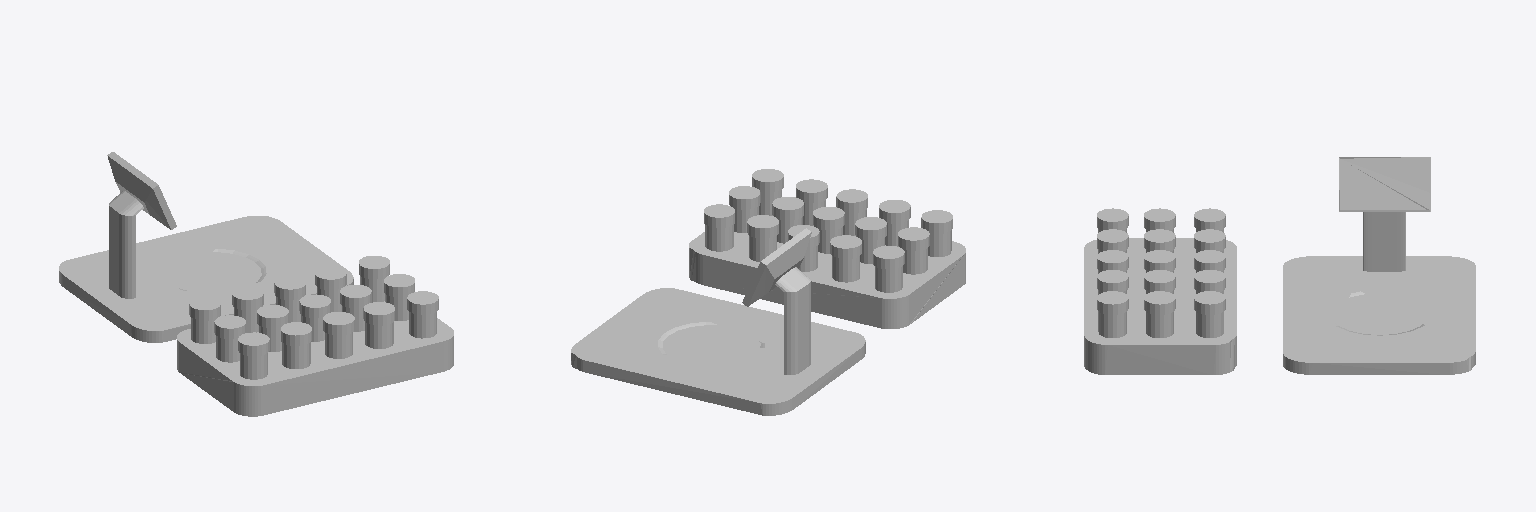
File: converted.obj
3 renders of one model, left to right at view 1: azimuth 30°, elevation 25°; view 2: azimuth 150°, elevation 25°; view 3: azimuth 270°, elevation 25°, orthographic.
Visible parts, largest first — view 1: pCylinder27, pCylinder1, pCylinder22, pCylinder15, pCylinder21, pCylinder20, pCylinder19, pCylinder14, pCube5; view 2: pCylinder27, pCylinder1, pCylinder22, pCylinder15, pCylinder21, pCylinder19, pCylinder14, pCylinder20, pCube5; view 3: pCylinder27, pCylinder1, pCylinder15, pCube5, pCylinder14, pCube4, pCylinder19, pCylinder21, pCylinder22, pCylinder20.
Part boxes in pixels (x1,y1,x2,y2): pCylinder27: (59,216,353,342); pCylinder1: (177,301,453,416); pCylinder22: (189,297,269,379); pCylinder15: (359,256,438,338); pCylinder21: (232,286,311,368); pCylinder20: (274,276,354,358); pCylinder19: (315,266,394,348); pCylinder14: (109,191,143,298); pCube5: (107,152,176,229); pCylinder27: (571,288,865,415); pCylinder1: (689,216,965,328); pCylinder22: (873,210,952,292); pCylinder15: (704,169,783,251); pCylinder21: (830,200,910,282); pCylinder19: (747,179,827,261); pCylinder14: (775,267,810,374); pCylinder20: (788,189,867,271); pCube5: (742,228,811,306); pCylinder27: (1283,256,1475,374); pCylinder1: (1084,238,1236,374); pCylinder15: (1097,291,1225,337); pCube5: (1339,157,1430,211); pCylinder14: (1363,212,1405,271); pCube4: (1340,159,1425,209); pCylinder19: (1097,270,1225,294); pCylinder21: (1097,229,1225,253); pCylinder22: (1097,208,1225,232); pCylinder20: (1097,250,1225,273).
Size of the model in its own units: 13 by 7.51 by 20.17.